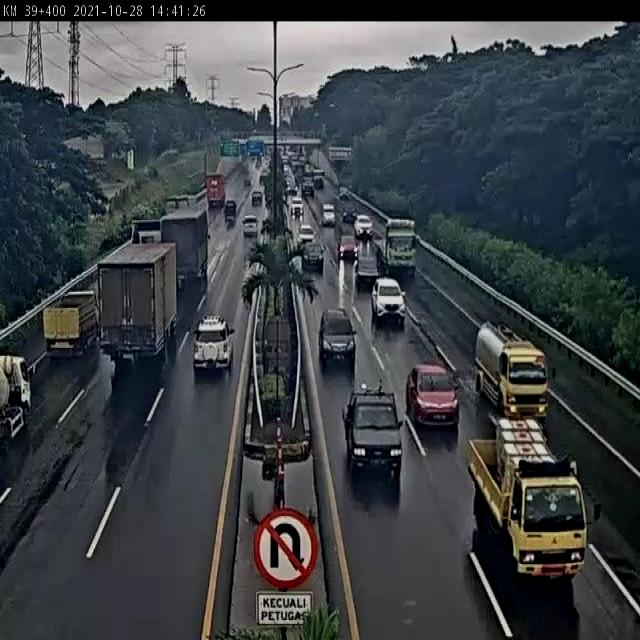Car: (341, 394, 402, 482), (405, 361, 462, 436), (317, 303, 359, 375), (192, 315, 234, 374)
Truck: (468, 412, 603, 577), (96, 237, 180, 363), (474, 319, 555, 421), (162, 207, 211, 281), (371, 214, 420, 275)
